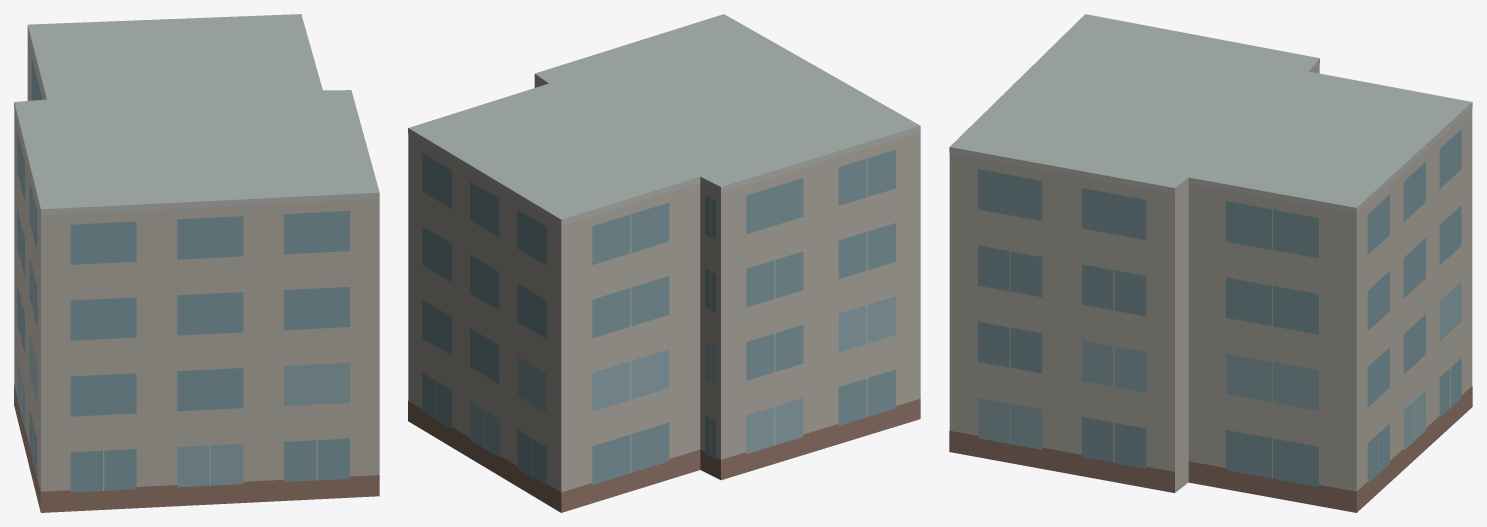
Rendered from survey-upis-33008310.glb.
3 views of the same model, side by side, from view 1: azimuth 30°, elevation 25°; view 2: azimuth 150°, elevation 25°; view 3: azimuth 270°, elevation 25° (orthographic). The views are drawn at different scales.
Parts seen in each view (by area): view 1: survey-upis-33008310.tmp; view 2: survey-upis-33008310.tmp; view 3: survey-upis-33008310.tmp.
Boxes of the visible parts, x1,y1,x2,y2 form: survey-upis-33008310.tmp: [14, 14, 379, 512]; survey-upis-33008310.tmp: [408, 14, 920, 512]; survey-upis-33008310.tmp: [949, 14, 1472, 512].
Bounding box in the file's own units: 16.78 × 12.3 × 19.12.
